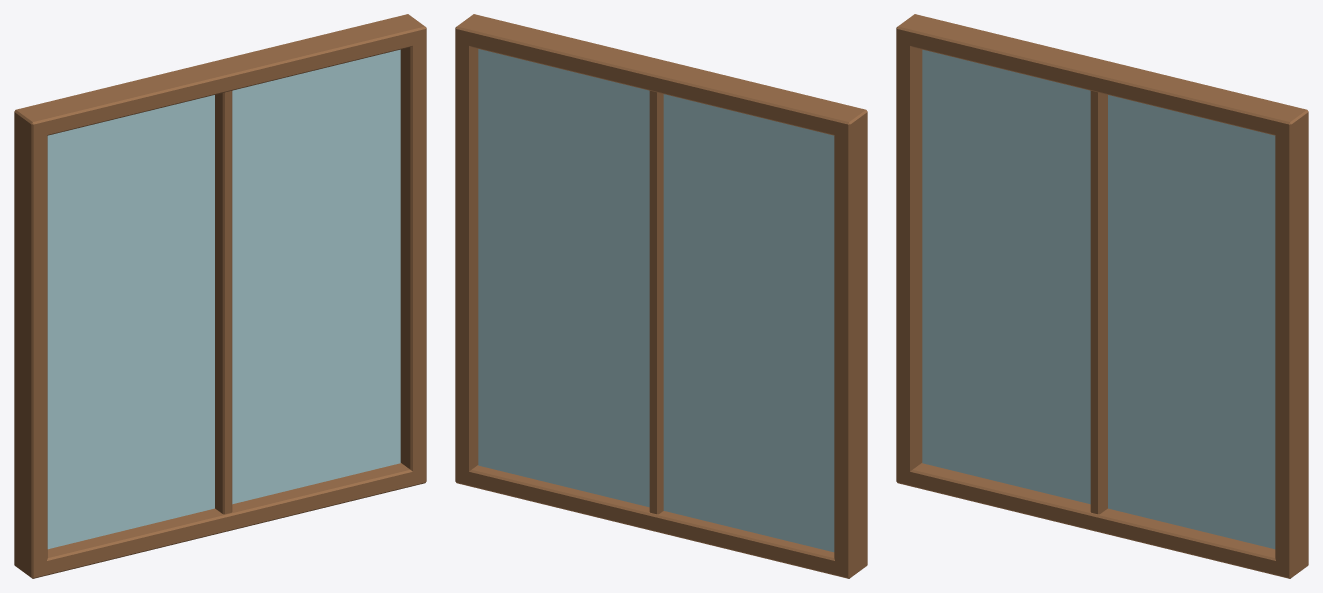
File: Window_Insert.fbx
3 renders of one model, left to right at view 1: azimuth 30°, elevation 25°; view 2: azimuth 150°, elevation 25°; view 3: azimuth 330°, elevation 25°, orthographic.
Parts seen in each view (by area): view 1: Window_Glass, Window_Frame; view 2: Window_Glass, Window_Frame; view 3: Window_Glass, Window_Frame.
Part boxes in pixels (<box>): Window_Glass: <box>47,49,400,549</box>; Window_Frame: <box>14,14,426,578</box>; Window_Glass: <box>478,49,834,552</box>; Window_Frame: <box>455,14,867,578</box>; Window_Glass: <box>922,49,1275,549</box>; Window_Frame: <box>896,14,1308,578</box>.
Size of the model in its own units: 290 by 320 by 24.
